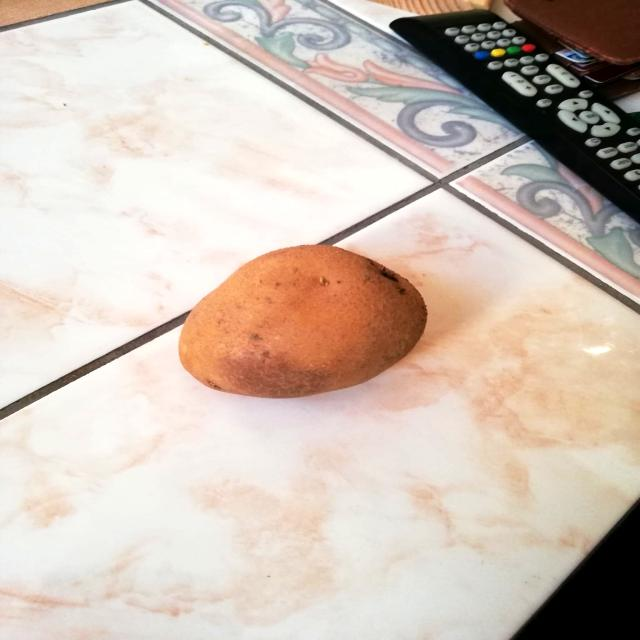potato: (165, 242, 434, 401)
